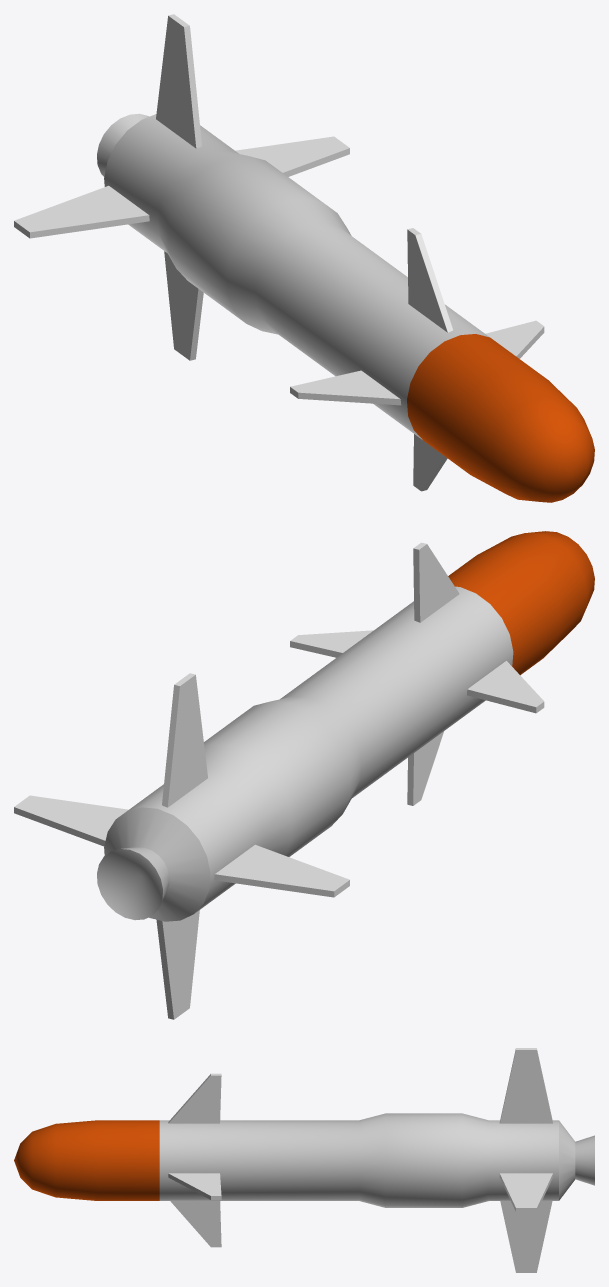
Rendered from Missile.fbx.
3 renders of one model, top to bottom at view 1: azimuth 30°, elevation 25°; view 2: azimuth 150°, elevation 25°; view 3: azimuth 270°, elevation 25°, orthographic. The views are drawn at different scales.
Visible parts, largest first — view 1: Cylinder, Plane; view 2: Cylinder, Plane; view 3: Cylinder, Plane.
Part boxes in pixels (left/top/right/bottom): Cylinder: left=97, top=113, right=594, bottom=502; Plane: left=14, top=14, right=544, bottom=491; Cylinder: left=97, top=531, right=594, bottom=921; Plane: left=14, top=542, right=544, bottom=1019; Cylinder: left=14, top=1113, right=594, bottom=1207; Plane: left=168, top=1048, right=552, bottom=1272.
Size of the model in its own units: 222 by 222 by 529.
